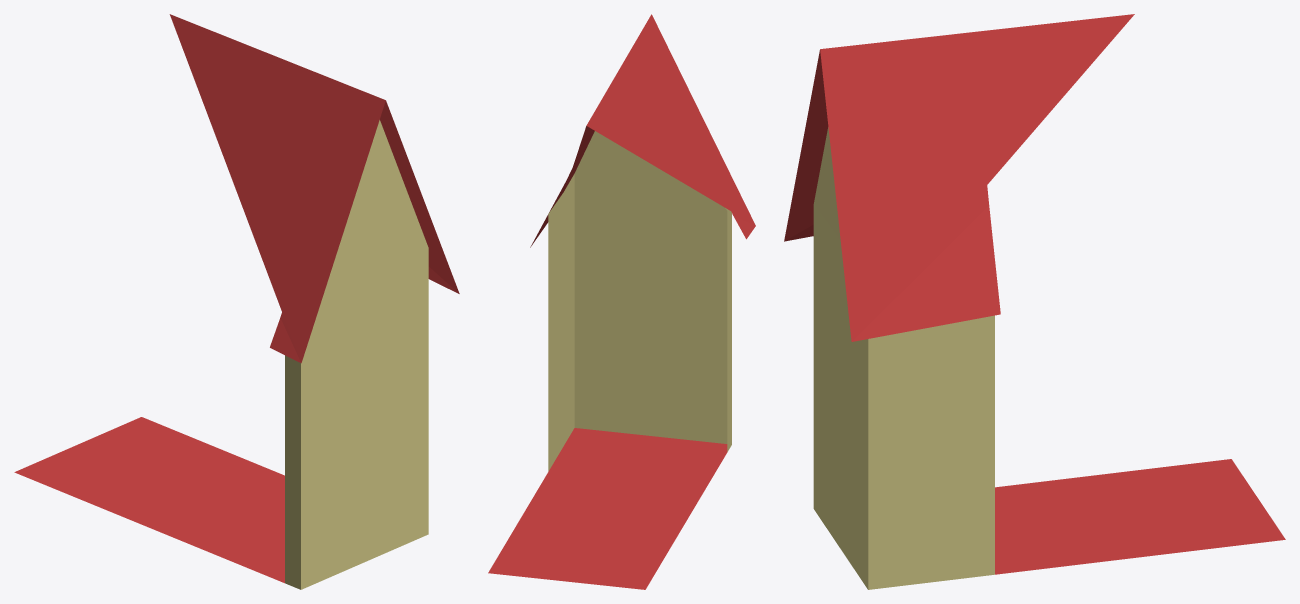
3 views of the same model, side by side, from view 1: azimuth 30°, elevation 25°; view 2: azimuth 150°, elevation 25°; view 3: azimuth 270°, elevation 25° (orthographic). The views are drawn at different scales.
Size of the model in its own units: 7.05 by 10.42 by 11.6.
